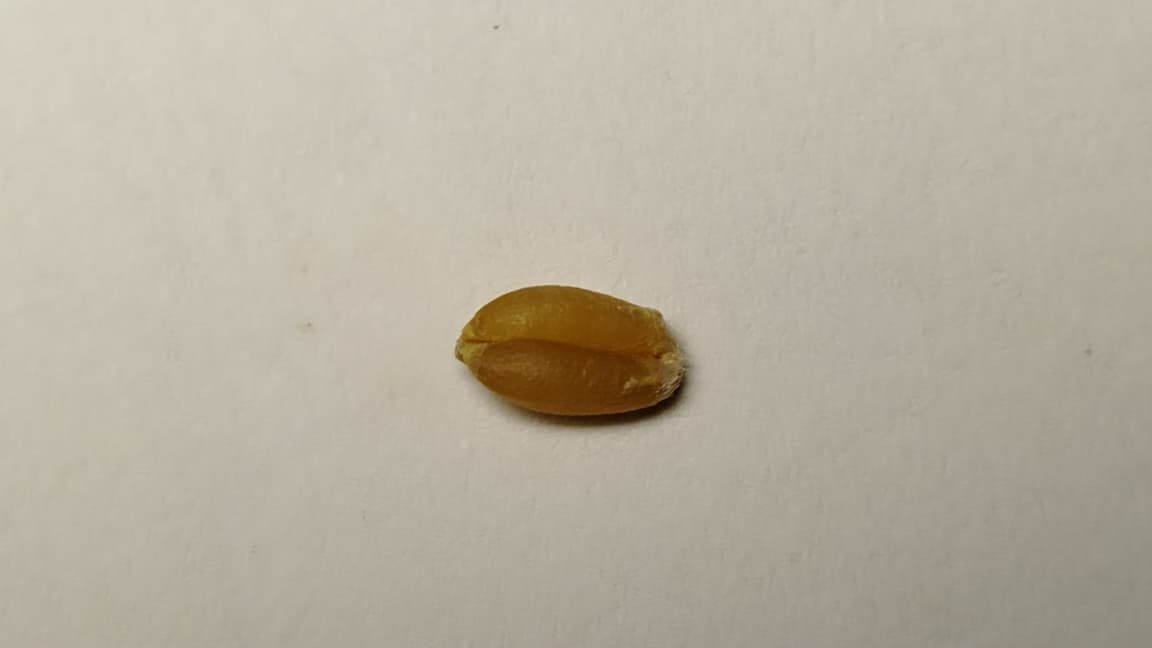healthy: (456, 285, 687, 416)
